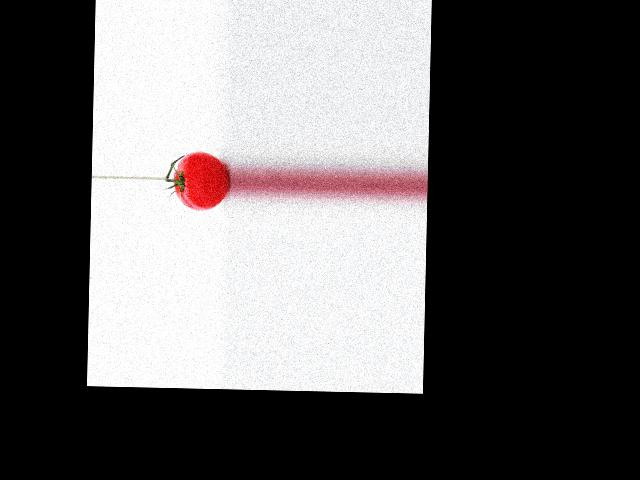tomato: (173, 152, 229, 212)
